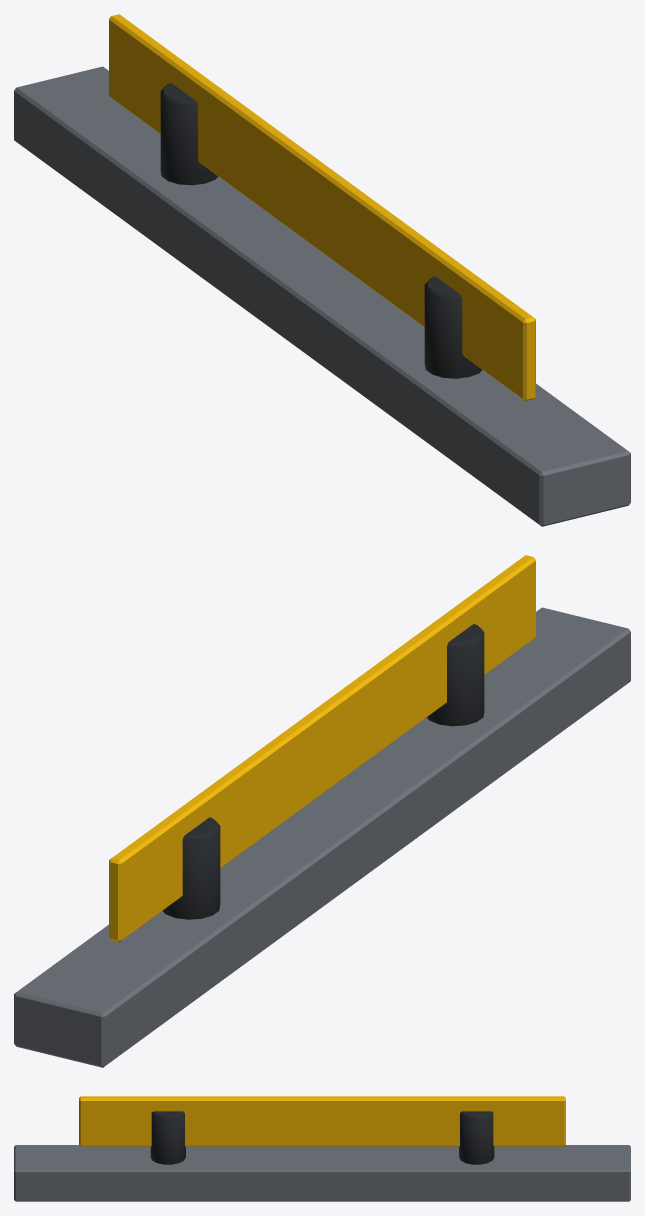
The model's file is roller_stop.glb.
3 views of the same model, one above another, from view 1: azimuth 30°, elevation 25°; view 2: azimuth 150°, elevation 25°; view 3: azimuth 270°, elevation 25° (orthographic). The views are drawn at different scales.
Visible parts, largest first — view 1: Stop_Static, Blade; view 2: Stop_Static, Blade; view 3: Stop_Static, Blade.
Boxes of the visible parts, bbox=[...] form: Stop_Static: bbox=[14, 66, 630, 526]; Blade: bbox=[109, 14, 535, 401]; Stop_Static: bbox=[14, 607, 630, 1067]; Blade: bbox=[109, 555, 535, 942]; Stop_Static: bbox=[14, 1111, 630, 1201]; Blade: bbox=[79, 1096, 565, 1146].
Size of the model in its own units: 0.14 by 0.23 by 1.4.
